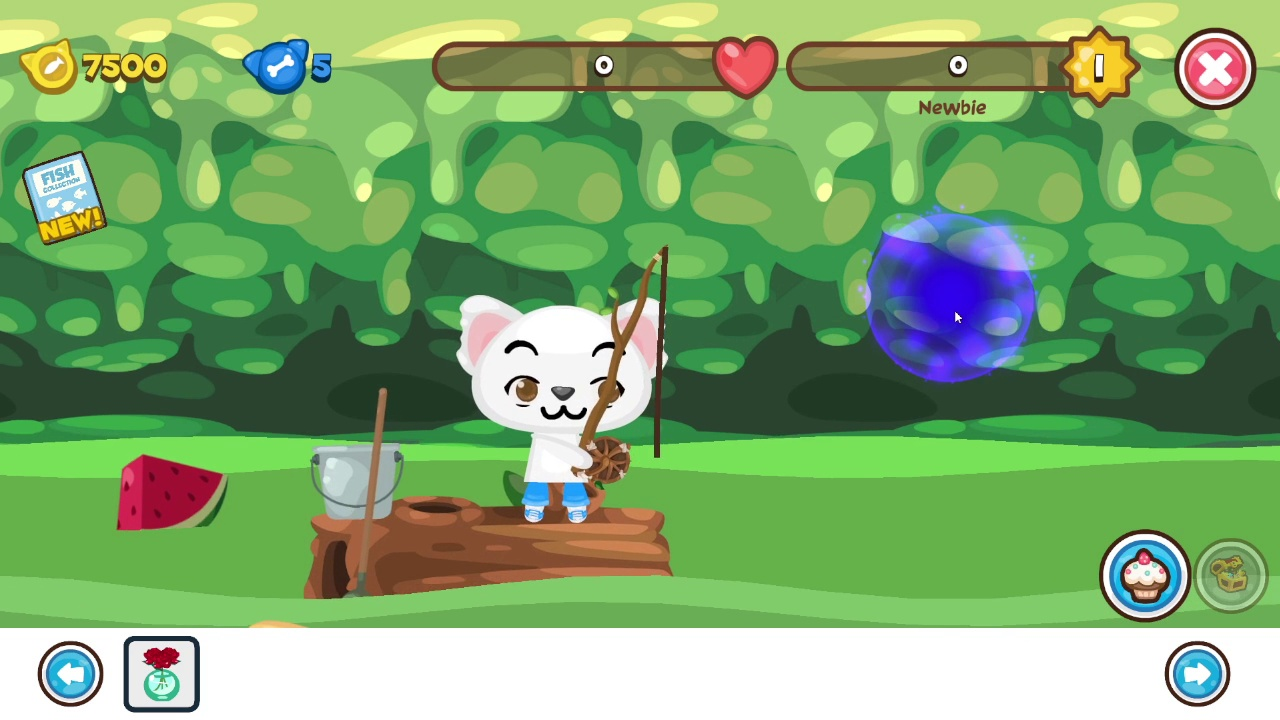point: (865, 210, 1039, 380)
